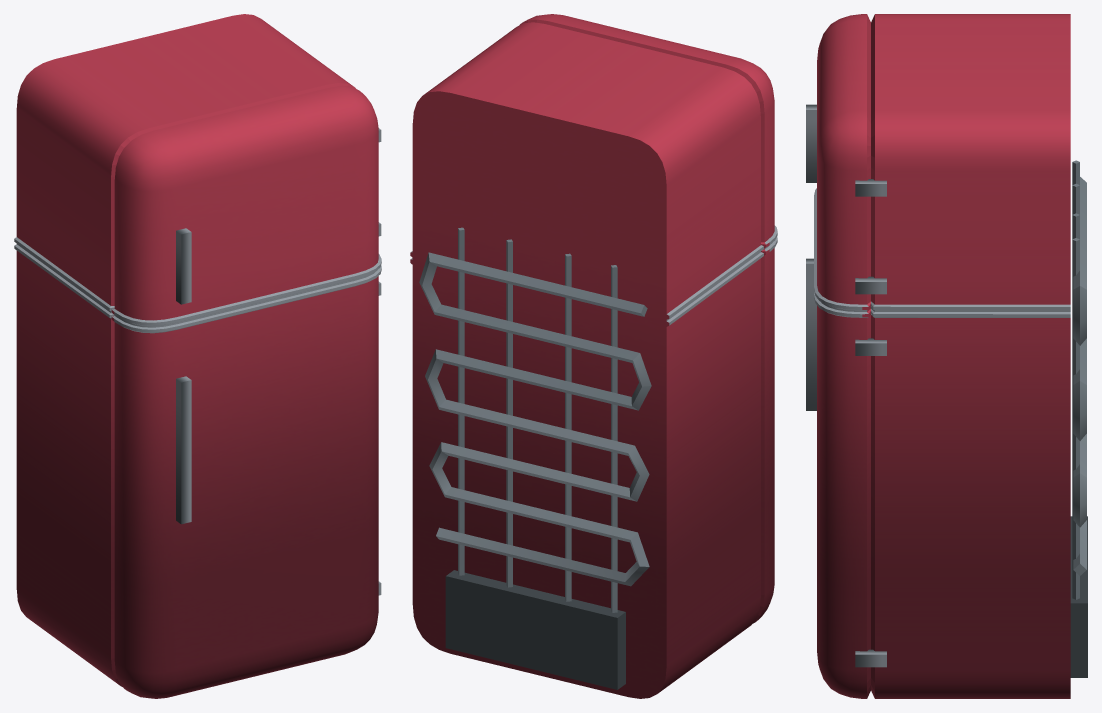
Rendered from Fridge_01.fbx.
3 views of the same model, side by side, from view 1: azimuth 30°, elevation 25°; view 2: azimuth 150°, elevation 25°; view 3: azimuth 270°, elevation 25° (orthographic). The views are drawn at different scales.
Parts seen in each view (by area): view 1: Box014; view 2: Box014; view 3: Box014.
Boxes of the visible parts, x1,y1,x2,y2 form: Box014: [14, 14, 381, 698]; Box014: [410, 14, 777, 698]; Box014: [806, 14, 1087, 698].
Bounding box in the file's own units: 119 × 242 × 106.
